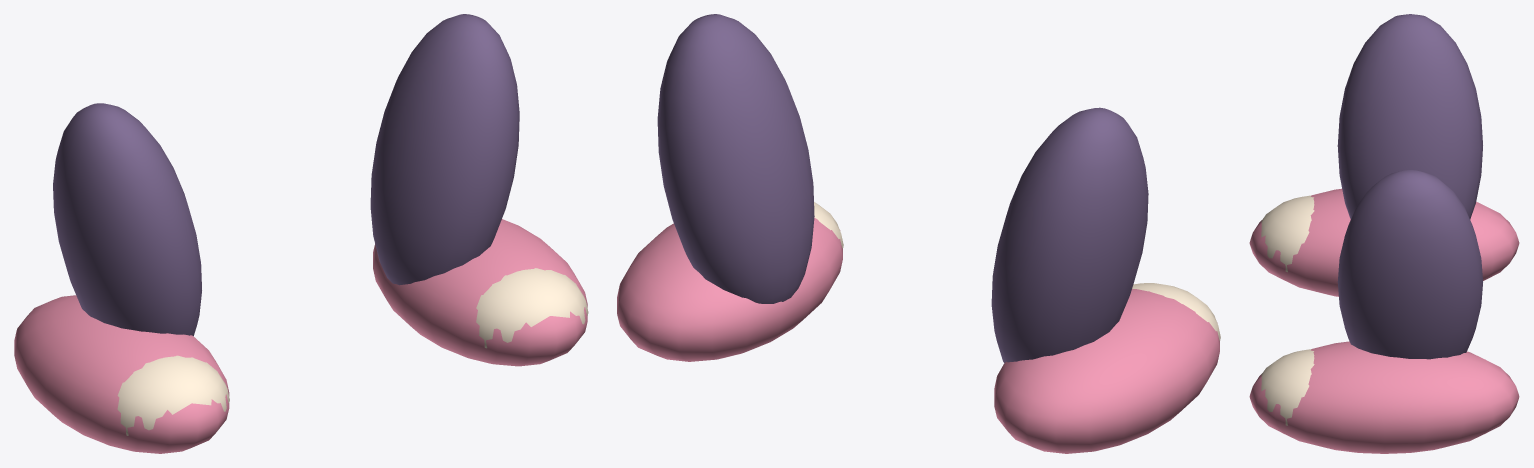
Rendered from legs-bouncy.glb.
The picture shows the model from 3 angles, left to right: view 1: azimuth 30°, elevation 25°; view 2: azimuth 150°, elevation 25°; view 3: azimuth 270°, elevation 25°; orthographic projection. The views are drawn at different scales.
Parts seen in each view (by area): view 1: CMP_Critter_Legs_Bouncy_Leg_R, CMP_Critter_Legs_Bouncy_Leg_L, CMP_Critter_Legs_Bouncy_Shoe_L, CMP_Critter_Legs_Bouncy_Shoe_R, CMP_Critter_Legs_Bouncy_Toe_L, CMP_Critter_Legs_Bouncy_Toe_R; view 2: CMP_Critter_Legs_Bouncy_Leg_R, CMP_Critter_Legs_Bouncy_Leg_L, CMP_Critter_Legs_Bouncy_Shoe_L, CMP_Critter_Legs_Bouncy_Shoe_R, CMP_Critter_Legs_Bouncy_Toe_L; view 3: CMP_Critter_Legs_Bouncy_Leg_R, CMP_Critter_Legs_Bouncy_Leg_L, CMP_Critter_Legs_Bouncy_Shoe_R, CMP_Critter_Legs_Bouncy_Shoe_L, CMP_Critter_Legs_Bouncy_Toe_L, CMP_Critter_Legs_Bouncy_Toe_R.
Boxes of the visible parts, left/top/right/bottom form: CMP_Critter_Legs_Bouncy_Leg_R: left=370, top=14, right=519, bottom=285; CMP_Critter_Legs_Bouncy_Leg_L: left=53, top=103, right=201, bottom=336; CMP_Critter_Legs_Bouncy_Shoe_L: left=14, top=295, right=229, bottom=453; CMP_Critter_Legs_Bouncy_Shoe_R: left=373, top=219, right=587, bottom=366; CMP_Critter_Legs_Bouncy_Toe_L: left=117, top=355, right=229, bottom=435; CMP_Critter_Legs_Bouncy_Toe_R: left=476, top=268, right=588, bottom=348; CMP_Critter_Legs_Bouncy_Leg_R: left=657, top=14, right=814, bottom=303; CMP_Critter_Legs_Bouncy_Leg_L: left=991, top=107, right=1148, bottom=363; CMP_Critter_Legs_Bouncy_Shoe_L: left=994, top=289, right=1219, bottom=453; CMP_Critter_Legs_Bouncy_Shoe_R: left=617, top=217, right=842, bottom=361; CMP_Critter_Legs_Bouncy_Toe_L: left=1132, top=283, right=1220, bottom=340; CMP_Critter_Legs_Bouncy_Leg_R: left=1337, top=170, right=1482, bottom=359; CMP_Critter_Legs_Bouncy_Leg_L: left=1337, top=14, right=1482, bottom=219; CMP_Critter_Legs_Bouncy_Shoe_R: left=1249, top=341, right=1519, bottom=453; CMP_Critter_Legs_Bouncy_Shoe_L: left=1249, top=188, right=1519, bottom=296; CMP_Critter_Legs_Bouncy_Toe_L: left=1261, top=195, right=1314, bottom=272; CMP_Critter_Legs_Bouncy_Toe_R: left=1261, top=349, right=1314, bottom=425.
Bounding box in the file's own units: 2 × 1.16 × 1.04.
